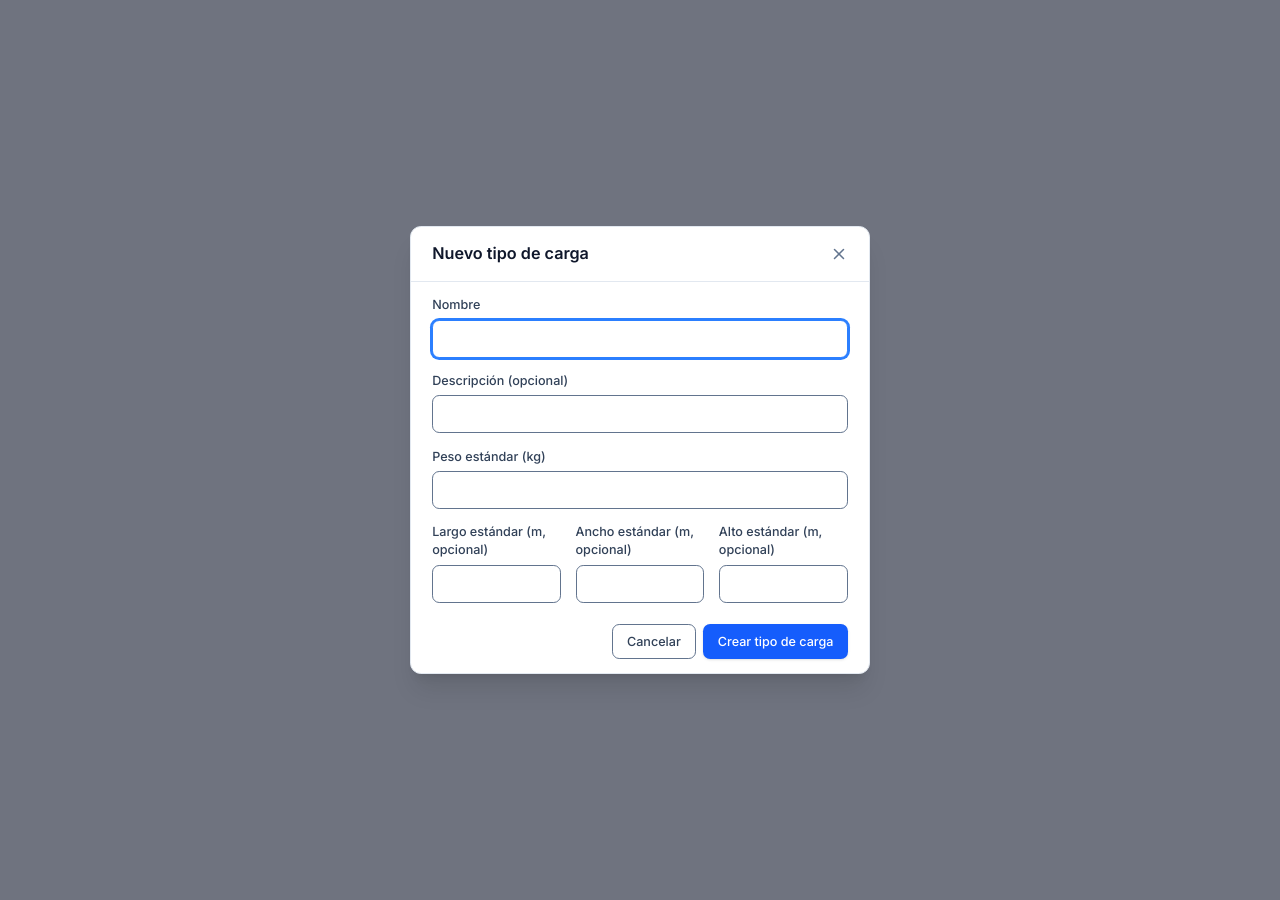
Test: CargoTypeCreateModal › el nombre duplicado se explica en el campo nombre, no en un aviso suelto
The image size is (1280, 900).
Type "CARGA GENERAL" into the field labelled "Nombre".
click(640, 339); type("CARGA GENERAL")  # box [432, 320, 848, 358]
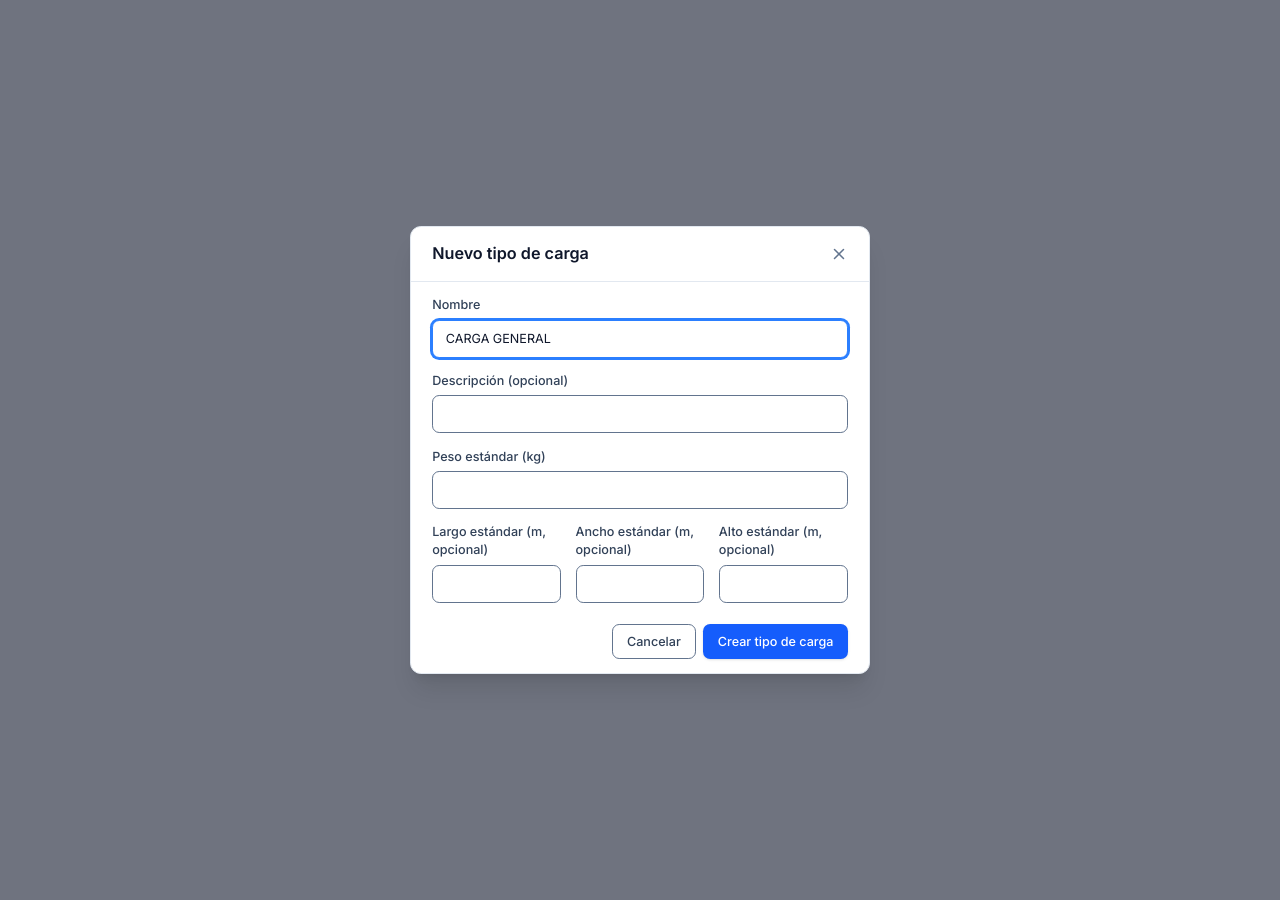
Type "1000" into the number field labelled "Peso estándar (kg)".
click(640, 490); type("1000")  # box [432, 471, 848, 509]
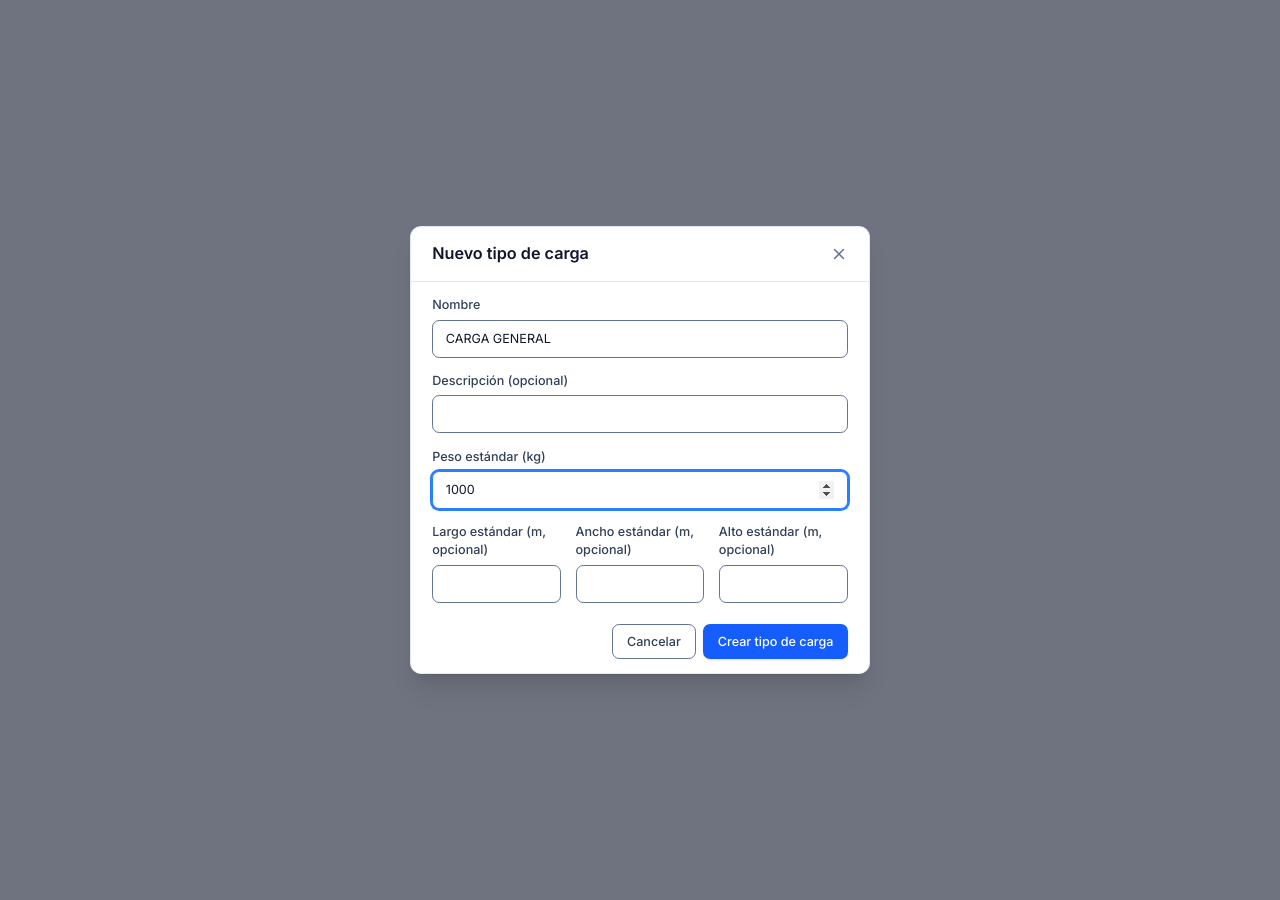
Click the button "Crear tipo de carga".
click(776, 642)  # box [703, 624, 848, 659]
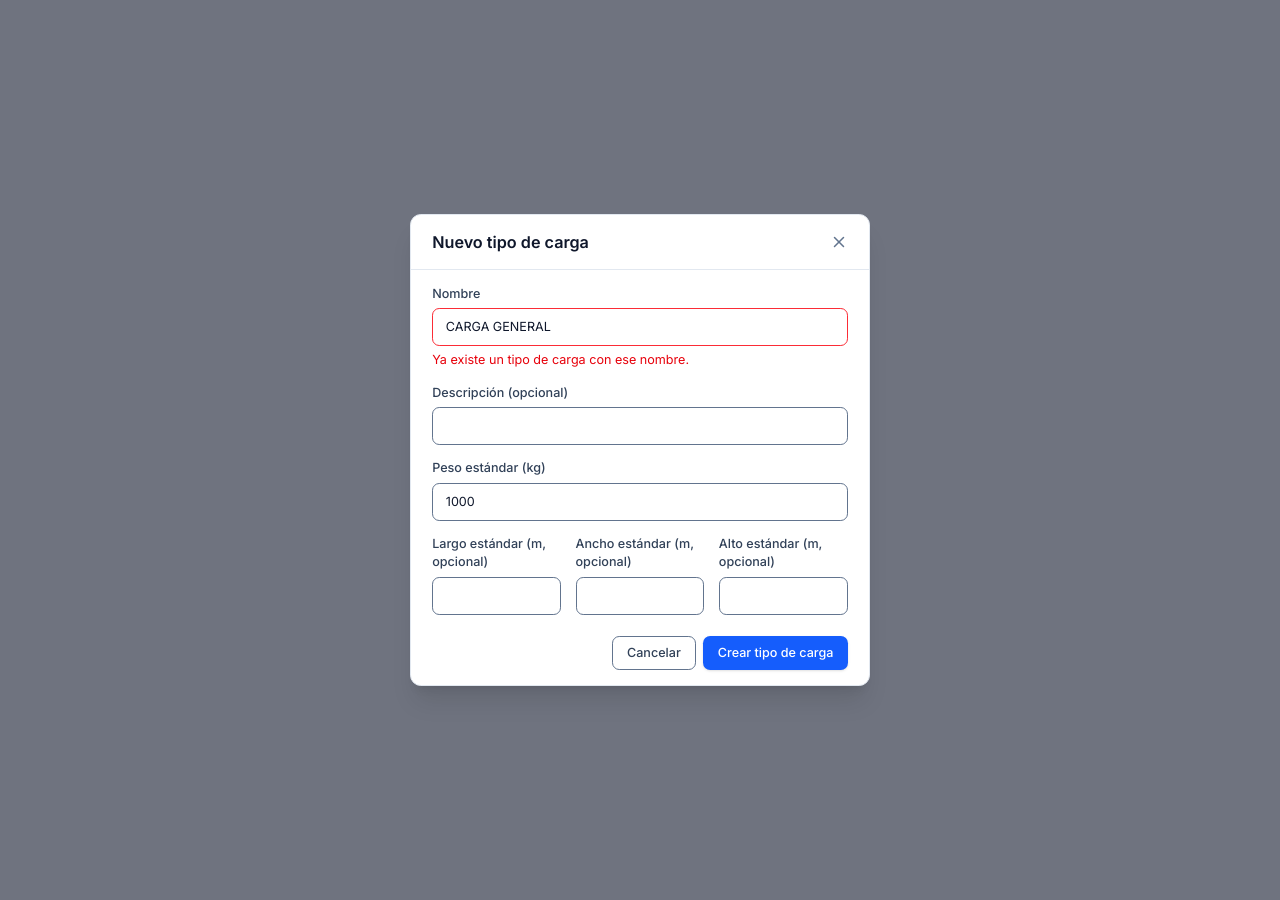
expect the text "Ya existe un tipo de carga con ese nombre." is shown: met, box [432, 352, 689, 367]
